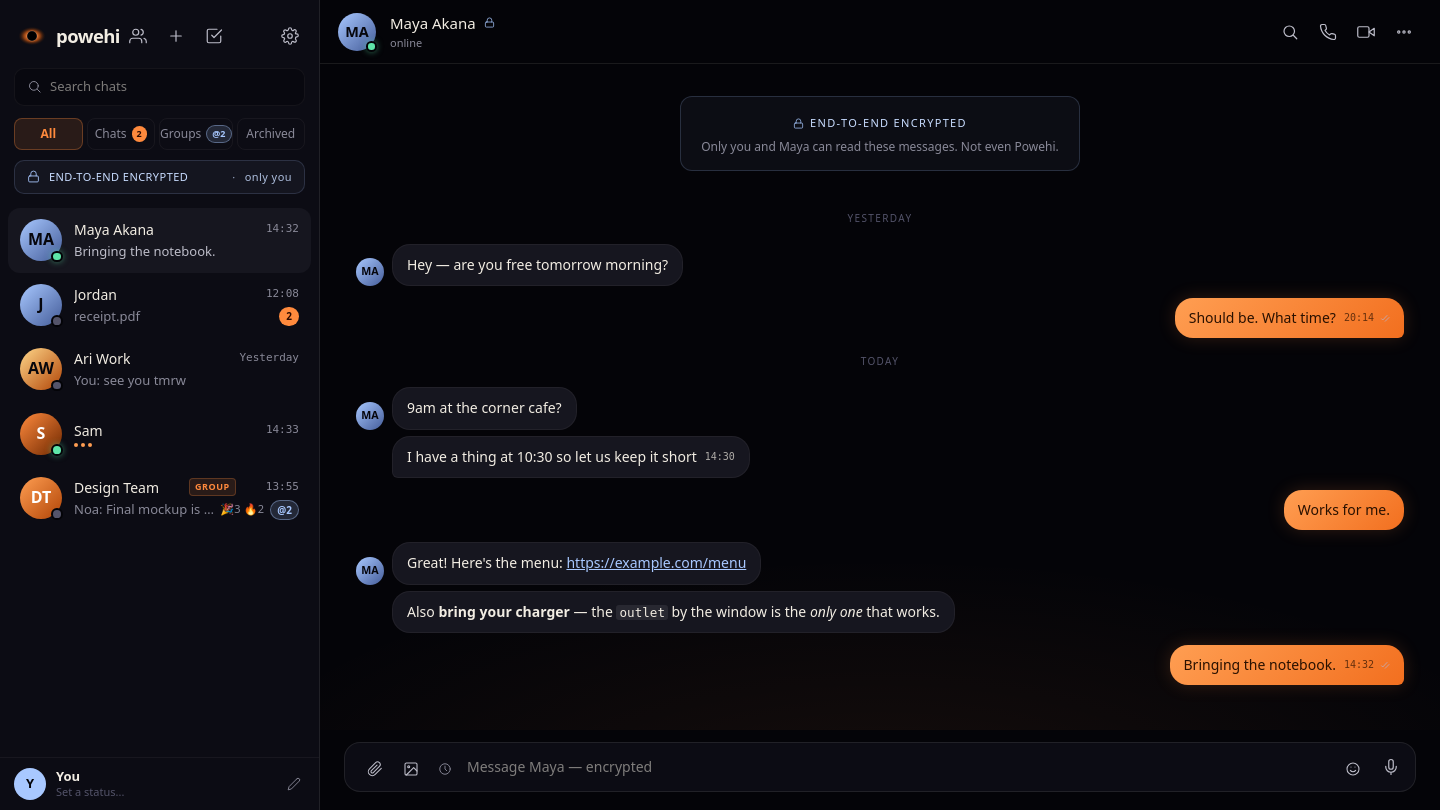
ChatLayout — group message reactions total summary + sidebar preview › group message with only 1 total reaction does NOT show reaction-total-summary
The width and height of the screenshot is (1440, 810).
Click the button "Design Team" at (160, 498), box left=8, top=466, right=311, bottom=530
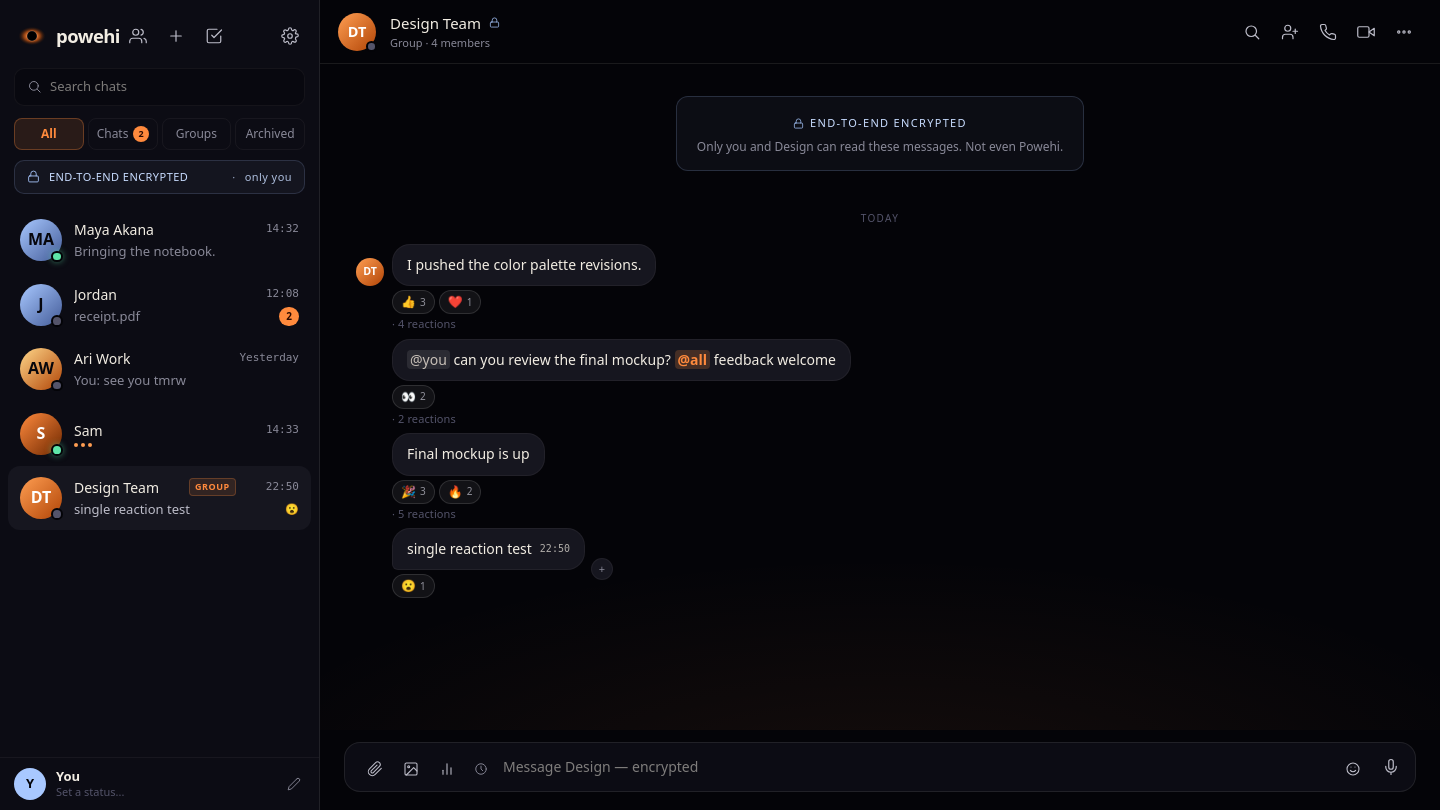
Result: the button with test id "reaction-chip-😮" is shown at left=392, top=574, right=435, bottom=598
